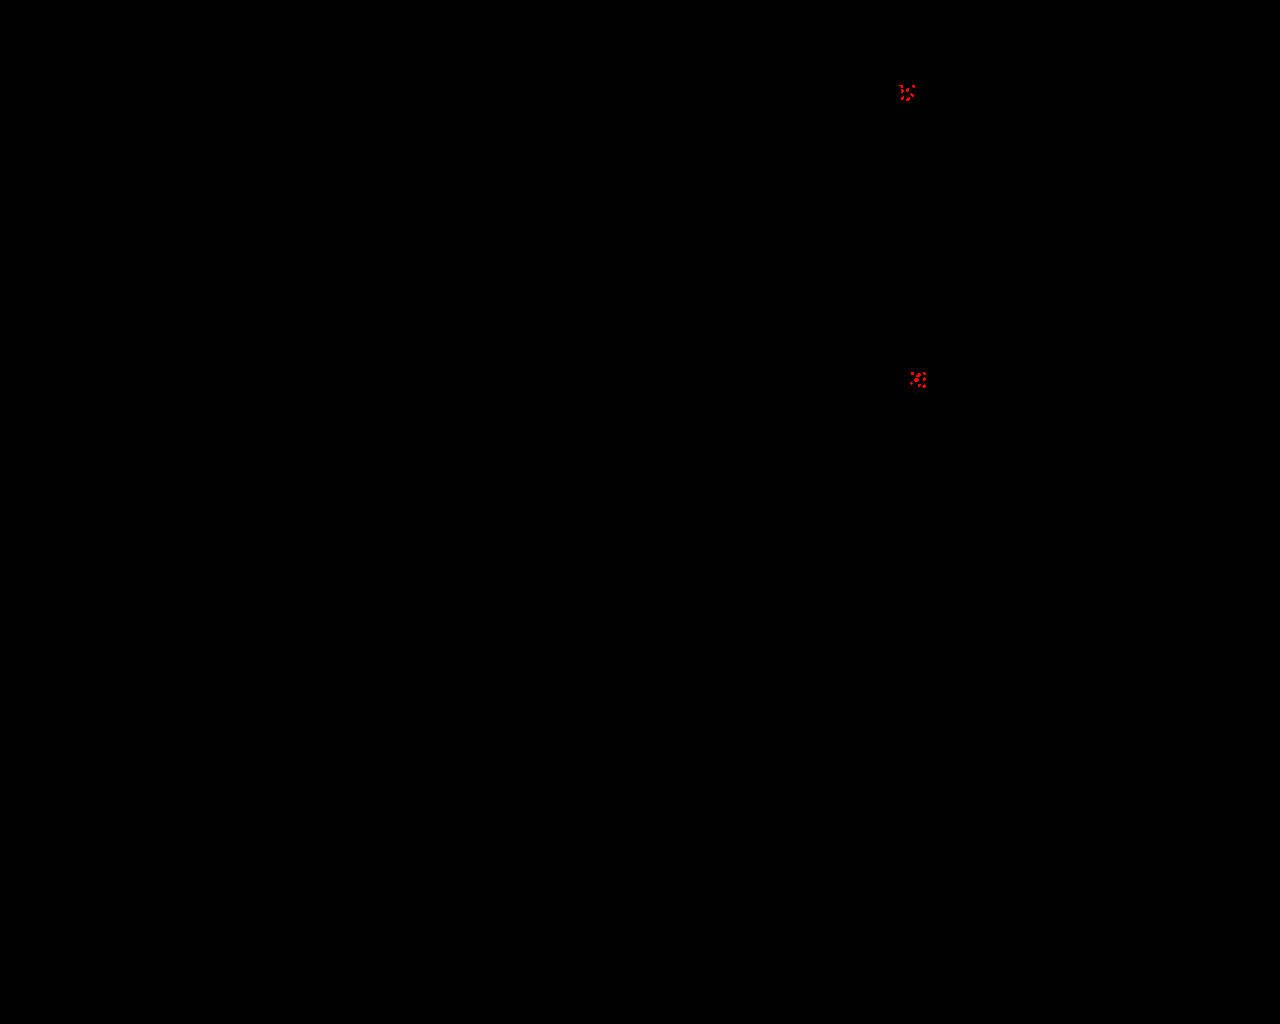Target: (914, 378, 920, 382), (910, 93, 914, 97), (906, 97, 910, 101), (916, 373, 921, 377), (899, 85, 903, 88), (906, 88, 909, 92), (901, 89, 904, 93), (901, 96, 904, 100), (923, 377, 926, 381), (922, 385, 926, 388), (912, 85, 915, 88), (911, 372, 914, 375), (923, 372, 926, 375), (910, 382, 913, 385), (918, 385, 921, 387)
